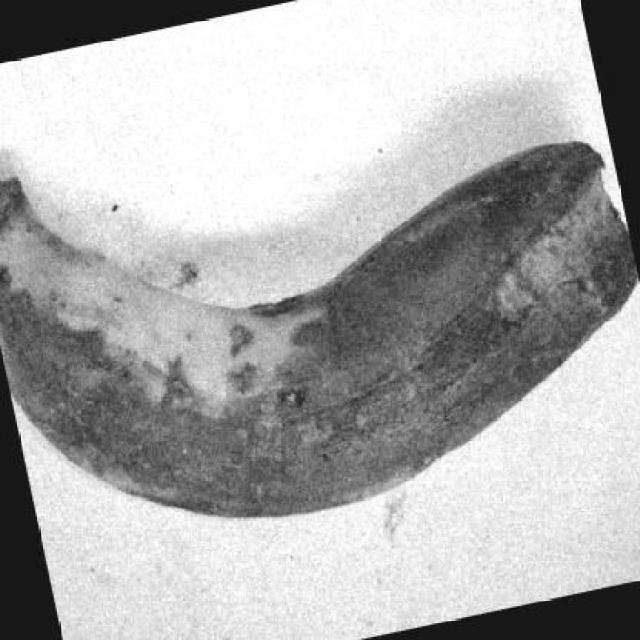Rotten: (0, 94, 640, 531)
